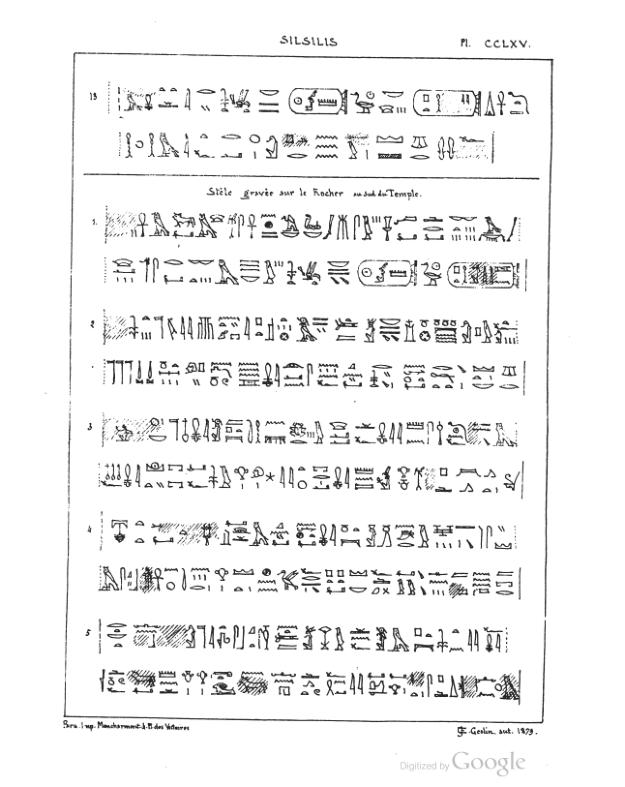circle: (442, 255, 522, 295), (410, 86, 487, 120), (352, 254, 424, 290), (288, 84, 351, 117)
